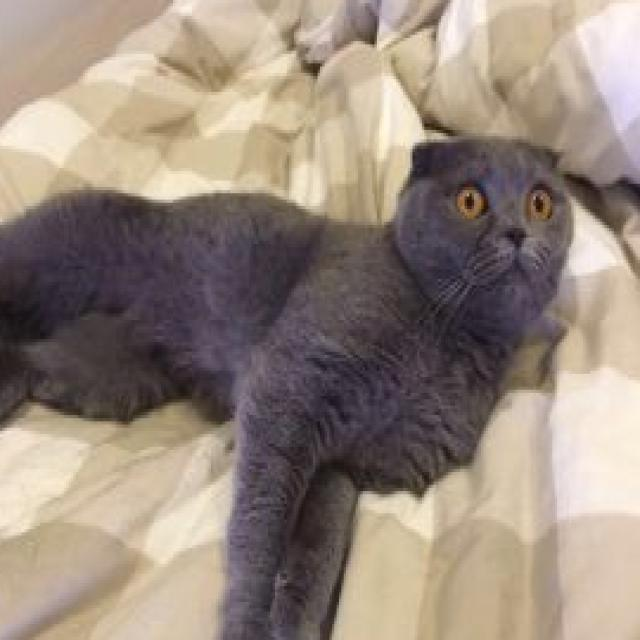Scottish Fold: (0, 126, 576, 640)
